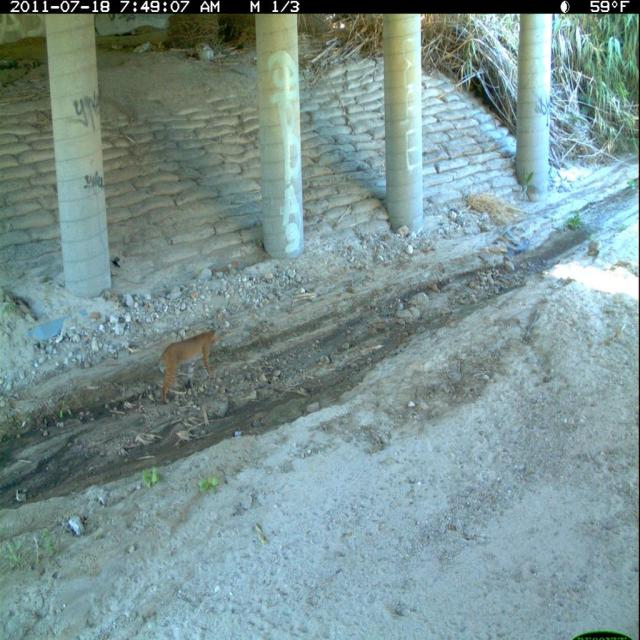bobcat: (155, 321, 223, 409)
